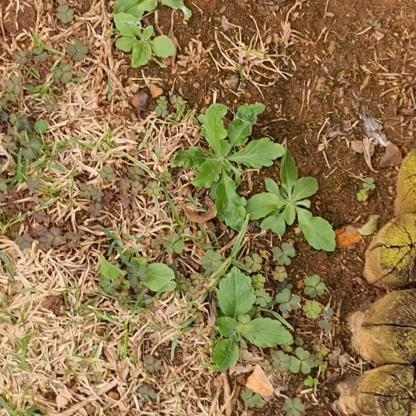Weeds: (176, 99, 285, 233), (245, 146, 339, 254), (209, 268, 295, 366), (97, 253, 179, 297), (113, 12, 174, 67)
